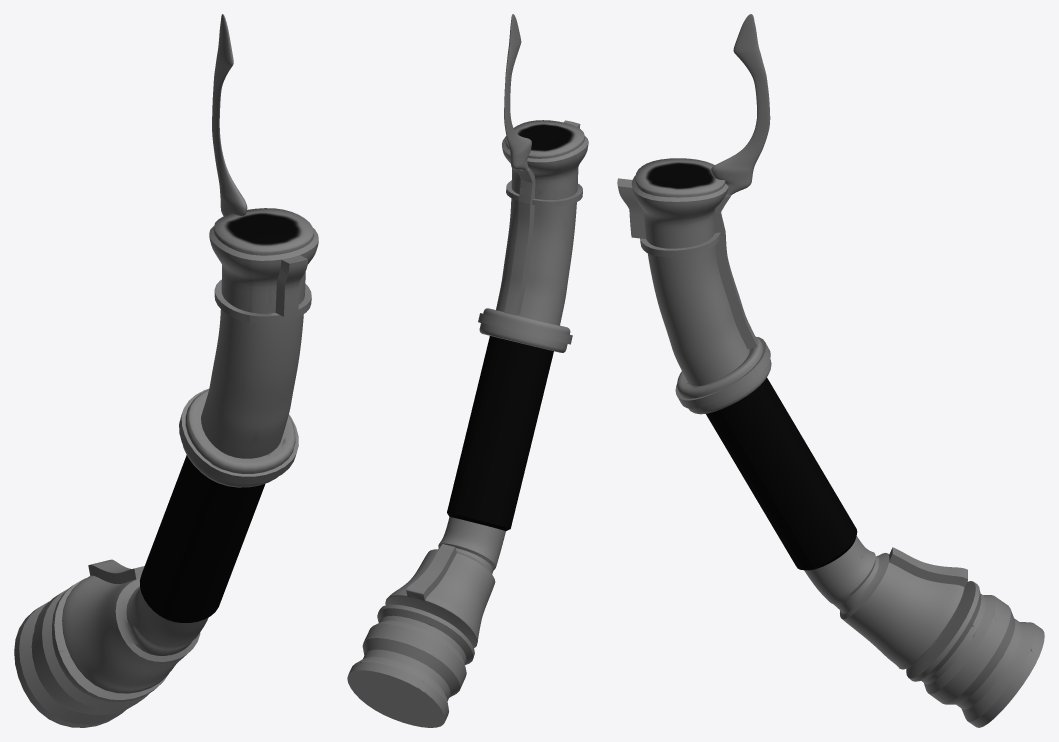
Rendered from Lightsaber_Dooku.fbx.
3 renders of one model, left to right at view 1: azimuth 30°, elevation 25°; view 2: azimuth 150°, elevation 25°; view 3: azimuth 270°, elevation 25°, orthographic. The views are drawn at different scales.
Visible parts, largest first — view 1: Count Dooku's Lightsaber; view 2: Count Dooku's Lightsaber; view 3: Count Dooku's Lightsaber.
Boxes of the visible parts, x1=… form: Count Dooku's Lightsaber: x1=14, y1=14, x2=318, y2=727; Count Dooku's Lightsaber: x1=347, y1=14, x2=588, y2=727; Count Dooku's Lightsaber: x1=617, y1=14, x2=1044, y2=727.
Bounding box in the file's own units: 31.7 × 211 × 116.
1 material, 1 textured.
